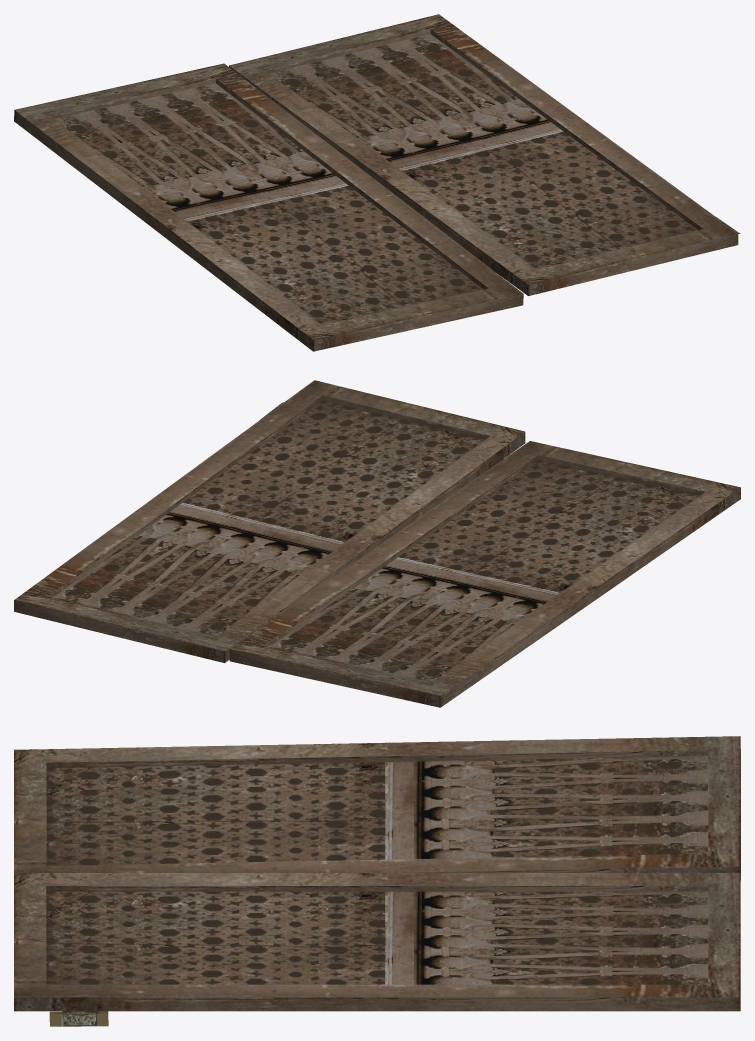
File: prop_northafricawoodscreendouble.glb
3 renders of one model, top to bottom at view 1: azimuth 30°, elevation 25°; view 2: azimuth 150°, elevation 25°; view 3: azimuth 270°, elevation 25°, orthographic. The views are drawn at different scales.
Bounding box in the file's own units: 63.94 × 4.45 × 75.
Materials: 1 (1 with a texture image).
